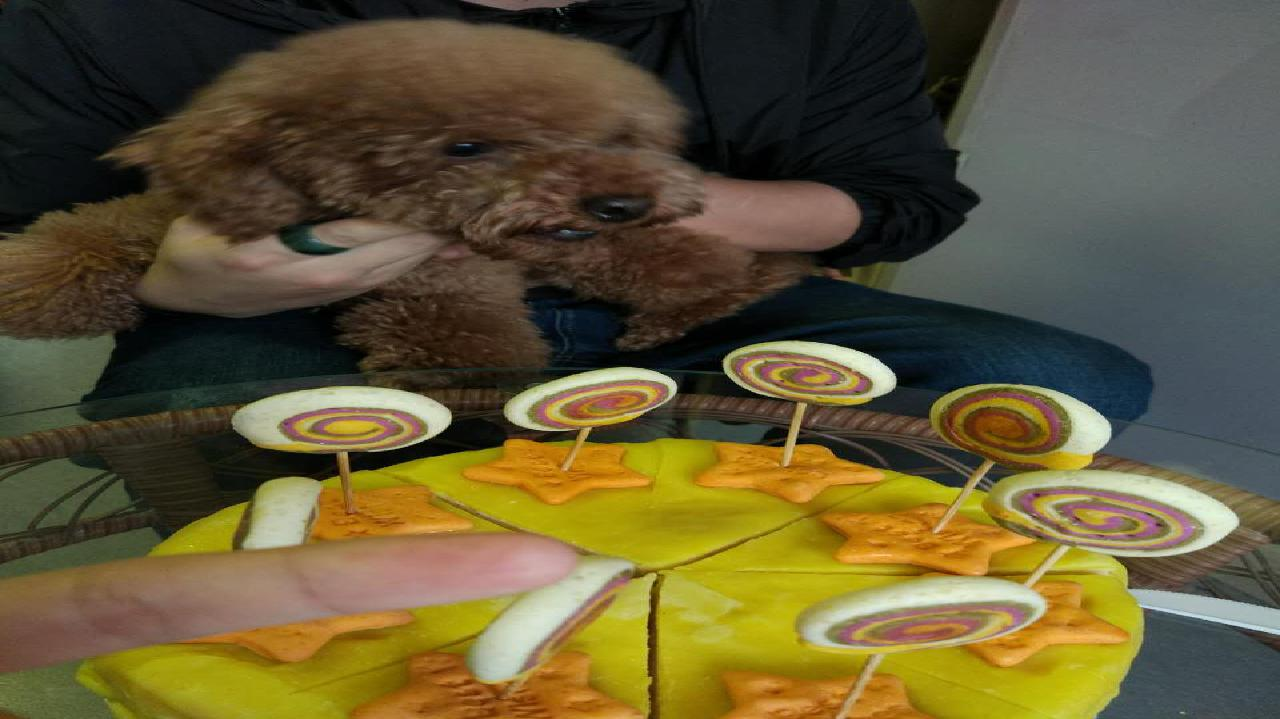zhuangzhuang: (135, 45, 771, 339)
